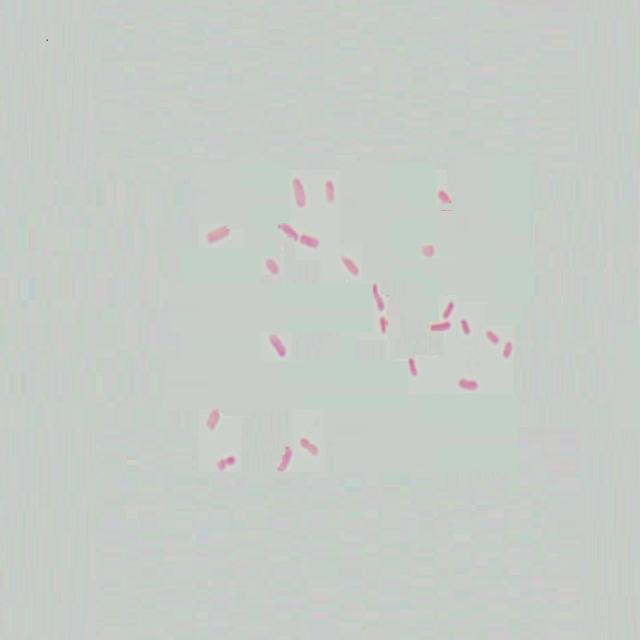E-coli: (299, 427, 321, 461), (266, 331, 287, 360), (291, 174, 308, 208), (205, 223, 230, 246), (278, 219, 299, 244), (275, 444, 293, 473), (370, 278, 386, 310), (300, 230, 321, 252), (457, 374, 481, 393), (205, 408, 224, 432), (262, 258, 281, 279), (323, 176, 337, 204), (407, 352, 420, 380), (373, 315, 391, 335), (343, 254, 359, 276), (216, 455, 239, 470), (438, 187, 454, 208), (486, 326, 502, 346), (420, 241, 435, 262), (504, 336, 515, 360), (428, 322, 452, 333), (442, 299, 454, 320), (459, 317, 470, 337)
